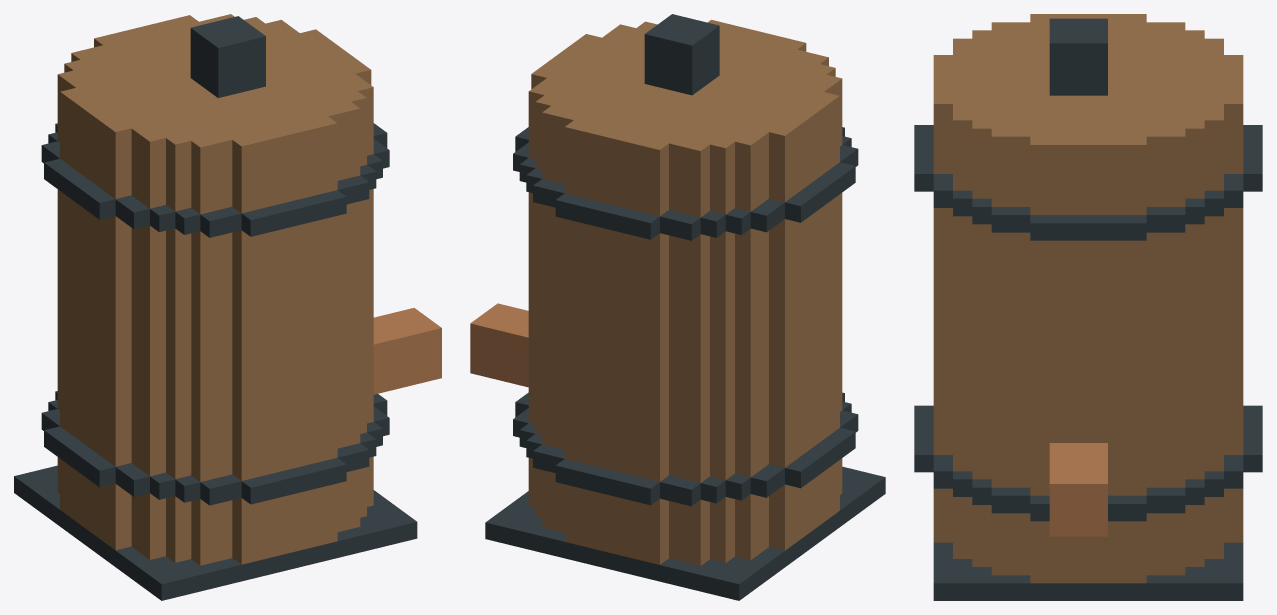
Rendered from fluid_container.glb.
The picture shows the model from 3 angles, left to right: view 1: azimuth 30°, elevation 25°; view 2: azimuth 150°, elevation 25°; view 3: azimuth 270°, elevation 25°; orthographic projection. The views are drawn at different scales.
Parts seen in each view (by area): view 1: fluid_container/housing, fluid_container/housing_lid_0; view 2: fluid_container/housing, fluid_container/housing_lid_0; view 3: fluid_container/housing, fluid_container/housing_lid_0.
Boxes of the visible parts, x1,y1,x2,y2 form: fluid_container/housing: (14, 91, 441, 600); fluid_container/housing_lid_0: (57, 14, 373, 164); fluid_container/housing: (470, 95, 885, 600); fluid_container/housing_lid_0: (528, 14, 842, 167); fluid_container/housing: (914, 121, 1262, 600); fluid_container/housing_lid_0: (933, 14, 1243, 162).
Bounding box in the file's own units: 0.6875 × 0.9062 × 0.5625.
